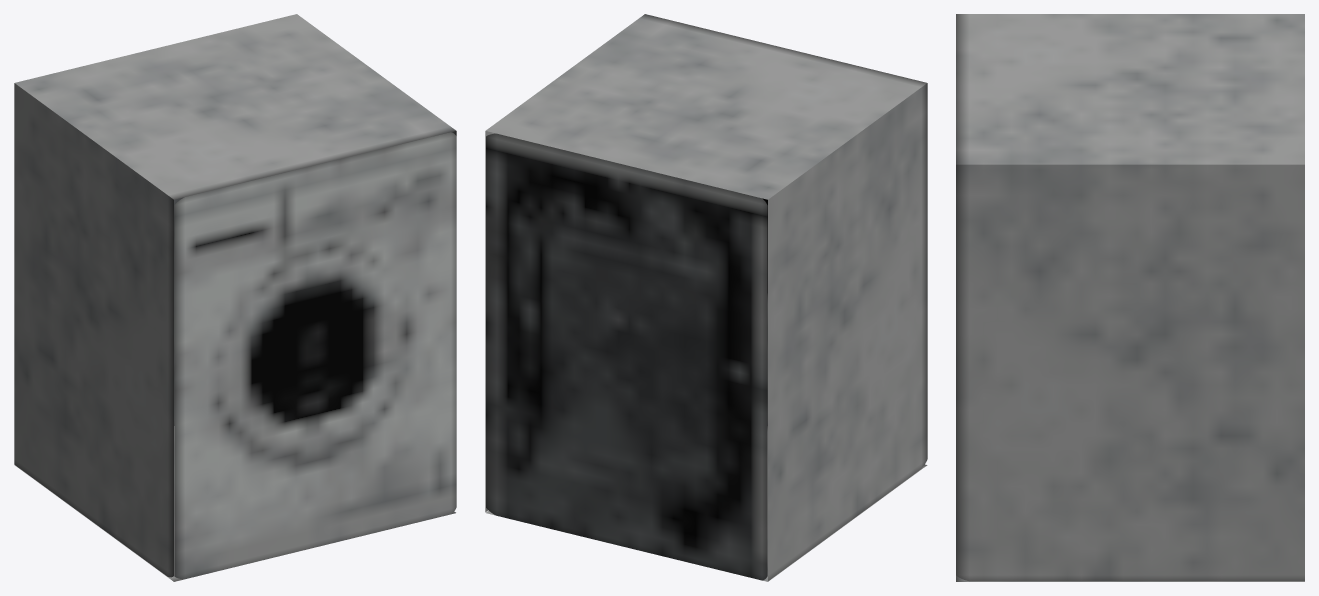
Rendered from SM_EC_WashingMachine_0.fbx.
3 renders of one model, left to right at view 1: azimuth 30°, elevation 25°; view 2: azimuth 150°, elevation 25°; view 3: azimuth 270°, elevation 25°, orthographic. The views are drawn at different scales.
Visible parts, largest first — view 1: SM_EC_WashingMachine_0; view 2: SM_EC_WashingMachine_0; view 3: SM_EC_WashingMachine_0.
Boxes of the visible parts, x1,y1,x2,y2 form: SM_EC_WashingMachine_0: (14, 14, 456, 581); SM_EC_WashingMachine_0: (485, 14, 927, 581); SM_EC_WashingMachine_0: (956, 14, 1304, 581).
Size of the model in its own units: 0.7975 by 0.7804 by 1.03.
